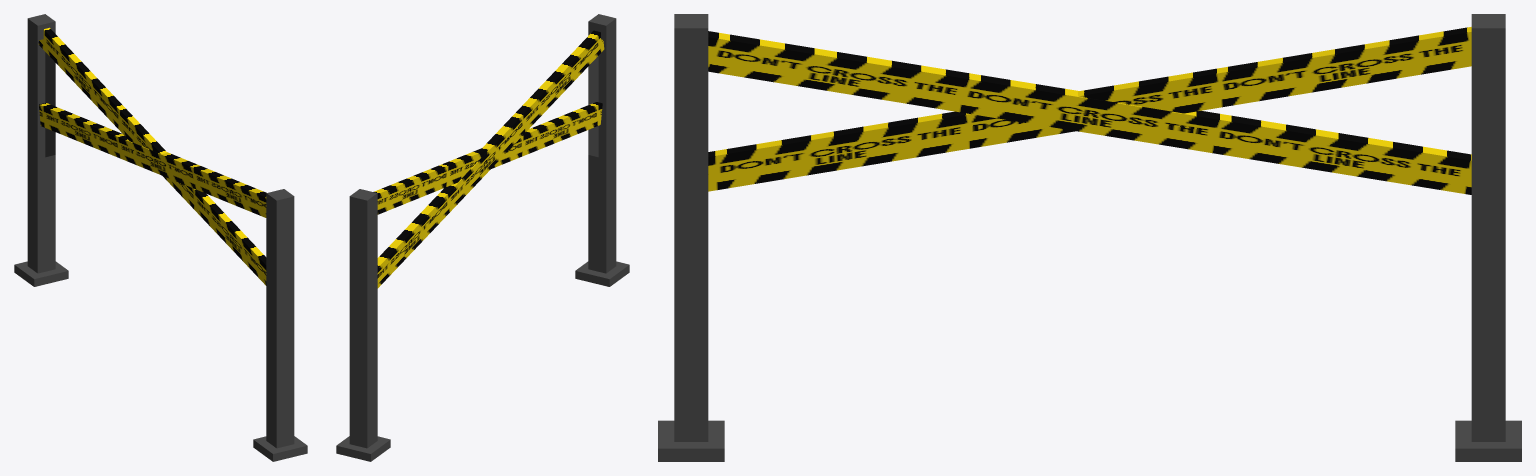
Rendered from LineDonCross.fbx.
3 views of the same model, side by side, from view 1: azimuth 30°, elevation 25°; view 2: azimuth 150°, elevation 25°; view 3: azimuth 270°, elevation 25° (orthographic). The views are drawn at different scales.
Parts seen in each view (by area): view 1: Cube, Cube.001, Cube.002; view 2: Cube, Cube.001, Cube.002; view 3: Cube, Cube.001, Cube.002.
Boxes of the visible parts, x1=… form: Cube: x1=14, y1=14, x2=307, y2=461; Cube.001: x1=39, y1=102, x2=266, y2=217; Cube.002: x1=38, y1=27, x2=266, y2=285; Cube: x1=336, y1=14, x2=629, y2=461; Cube.001: x1=377, y1=30, x2=604, y2=288; Cube.002: x1=373, y1=102, x2=602, y2=214; Cube: x1=658, y1=14, x2=1521, y2=461; Cube.001: x1=708, y1=31, x2=1471, y2=194; Cube.002: x1=708, y1=27, x2=1471, y2=191.
Bounding box in the file's own units: 1001 × 7078 × 12984.
